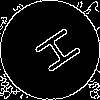H: (25, 25, 83, 80)
